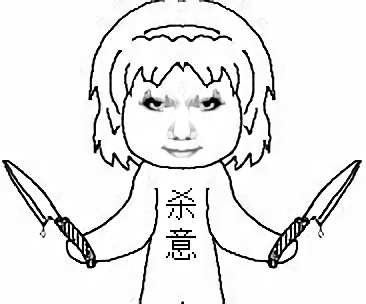dragon: (139, 89, 226, 160)
